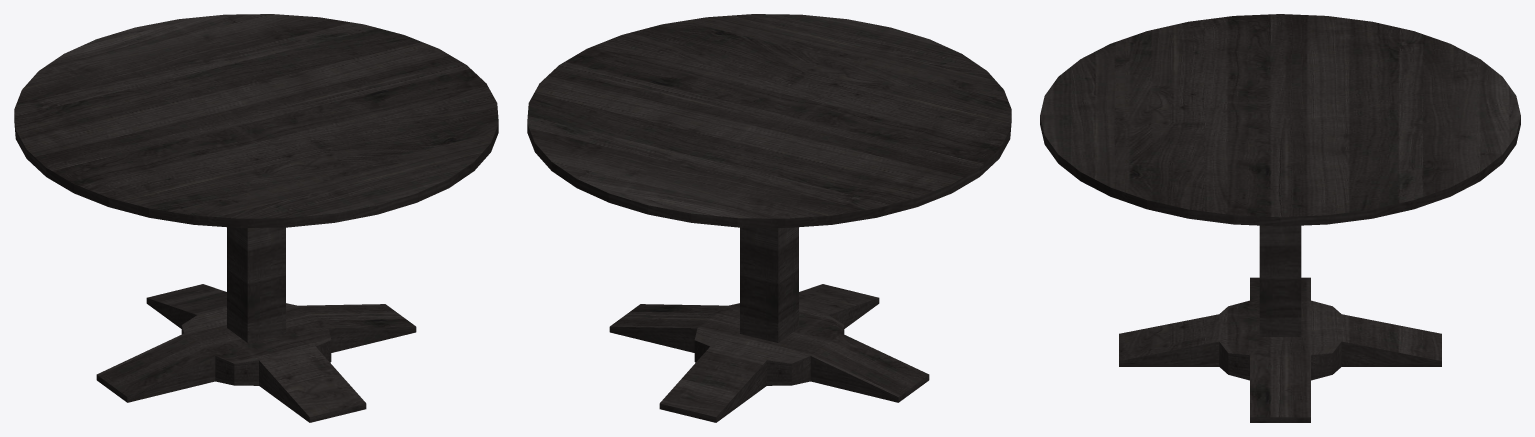
File: roundTable.fbx
3 views of the same model, side by side, from view 1: azimuth 30°, elevation 25°; view 2: azimuth 150°, elevation 25°; view 3: azimuth 270°, elevation 25° (orthographic).
Visible parts, largest first — view 1: Cube; view 2: Cube; view 3: Cube.
Part boxes in pixels (x1=…): Cube: x1=14, y1=14, x2=498, y2=422; Cube: x1=527, y1=14, x2=1011, y2=422; Cube: x1=1040, y1=14, x2=1520, y2=422.
Size of the model in its own units: 551 by 300 by 551.
